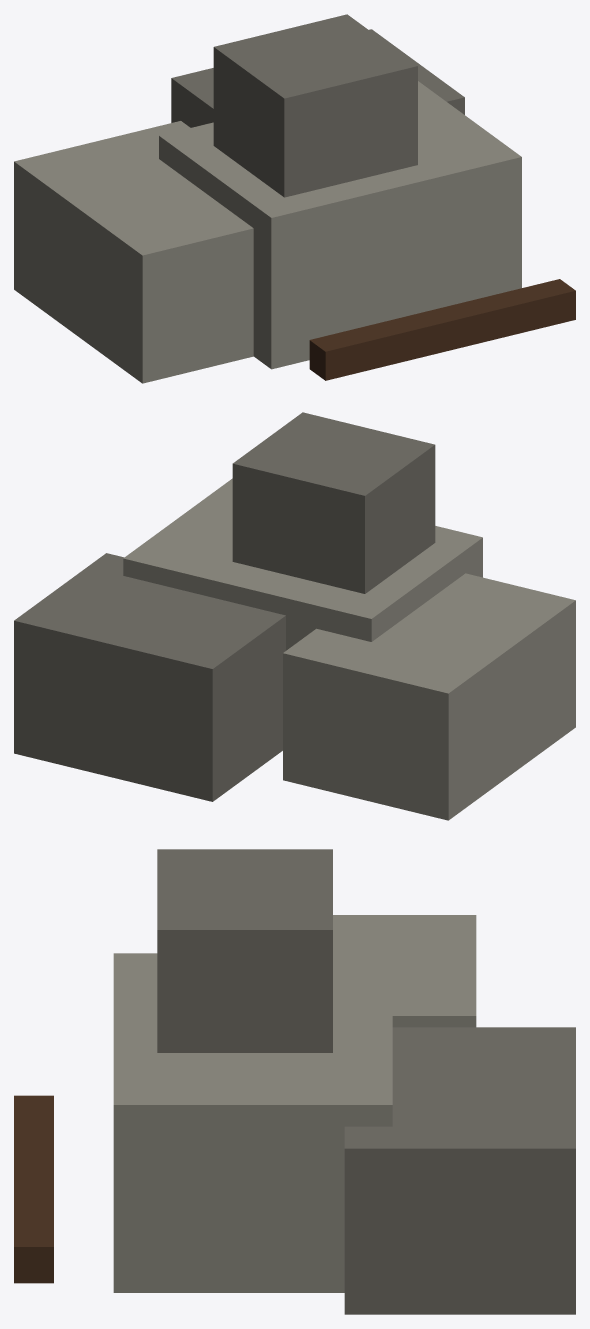
The model's file is prop_stoneblocks.glb.
3 renders of one model, top to bottom at view 1: azimuth 30°, elevation 25°; view 2: azimuth 150°, elevation 25°; view 3: azimuth 270°, elevation 25°, orthographic. The views are drawn at different scales.
Parts seen in each view (by area): view 1: prop_stoneblocks; view 2: prop_stoneblocks; view 3: prop_stoneblocks.
Part boxes in pixels (x1,y1,x2,y2): prop_stoneblocks: (14, 14, 575, 383); prop_stoneblocks: (14, 412, 575, 820); prop_stoneblocks: (14, 849, 575, 1314).
Bounding box in the file's own units: 1.43 × 0.86 × 1.41.
